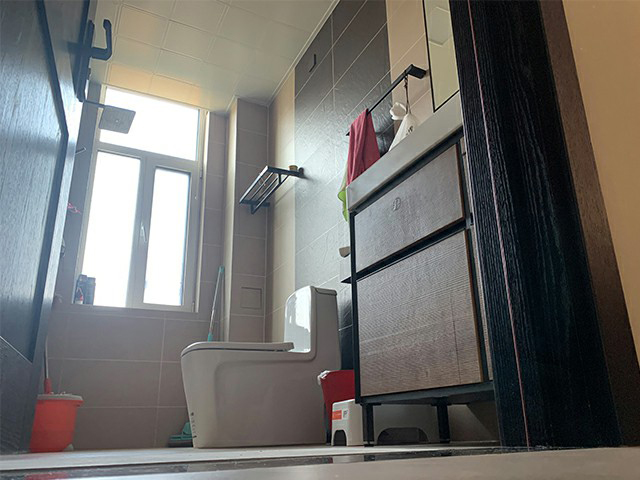cabinet: (344, 92, 496, 447)
closestool: (178, 284, 342, 451)
